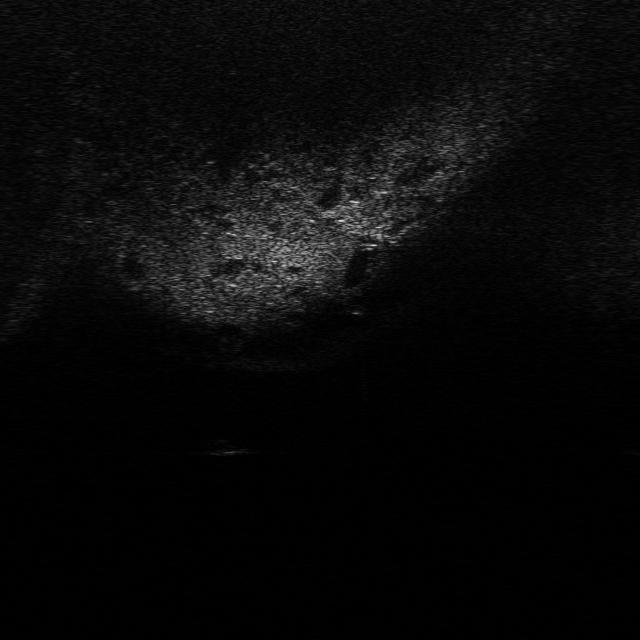ball: (336, 286, 378, 318)
cube: (201, 432, 248, 460)
